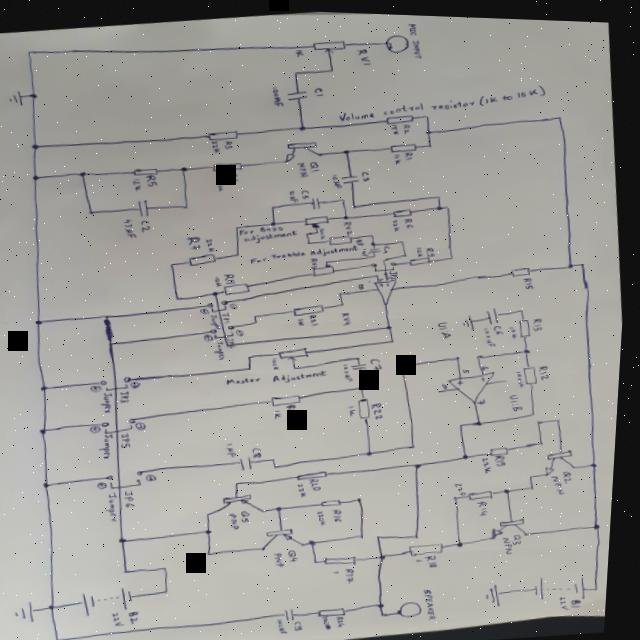capacitor: (286, 85, 311, 98), (138, 196, 154, 215), (488, 301, 503, 320), (244, 452, 259, 468), (290, 602, 304, 618), (342, 170, 362, 180), (312, 192, 324, 206), (354, 358, 373, 366), (371, 243, 385, 249)
ground: (489, 576, 510, 604), (21, 597, 44, 622), (8, 87, 26, 106), (463, 308, 479, 325)
junction: (28, 90, 40, 98), (595, 455, 605, 463), (525, 342, 536, 349), (479, 348, 488, 356), (418, 457, 427, 465), (569, 256, 578, 264), (457, 349, 466, 357), (466, 448, 476, 455), (271, 216, 281, 223), (181, 163, 190, 170), (38, 317, 47, 324), (508, 482, 517, 489), (211, 525, 220, 532), (281, 501, 290, 508), (582, 255, 591, 262), (314, 535, 323, 542), (34, 173, 44, 179), (424, 108, 432, 115), (372, 236, 380, 243), (81, 169, 89, 176), (543, 434, 550, 441), (45, 426, 52, 433), (55, 601, 62, 608), (463, 537, 470, 544), (90, 207, 98, 213), (389, 320, 397, 326), (462, 417, 470, 423), (387, 607, 395, 613), (110, 339, 118, 345), (33, 142, 41, 148), (479, 415, 487, 421), (63, 634, 70, 640), (426, 125, 433, 131), (294, 66, 301, 72), (386, 548, 392, 555), (365, 529, 372, 535), (256, 316, 263, 322), (345, 210, 352, 216), (46, 383, 52, 390), (237, 249, 244, 255), (362, 381, 370, 386), (125, 535, 133, 540), (404, 360, 412, 365), (598, 518, 606, 523), (541, 413, 547, 419), (415, 439, 421, 445), (169, 562, 175, 568), (185, 200, 191, 206), (172, 259, 178, 265), (560, 411, 566, 417), (438, 189, 444, 195), (452, 250, 458, 256), (458, 490, 464, 496), (49, 480, 55, 486), (303, 121, 309, 127), (535, 405, 541, 411), (385, 599, 392, 604), (272, 201, 279, 206), (213, 548, 220, 553), (428, 138, 435, 143), (251, 351, 258, 356), (521, 303, 528, 308), (420, 529, 427, 534), (342, 298, 349, 303), (344, 145, 351, 150), (557, 109, 564, 114), (329, 64, 335, 69), (130, 567, 136, 572), (354, 200, 360, 205), (600, 580, 606, 585), (240, 477, 246, 482), (382, 530, 388, 535), (341, 287, 347, 292), (251, 363, 257, 368), (310, 237, 316, 242), (278, 461, 284, 466), (275, 453, 281, 458), (440, 200, 446, 205), (373, 249, 379, 254), (402, 234, 408, 239), (215, 288, 221, 293), (373, 446, 378, 452), (238, 222, 244, 227), (362, 493, 368, 498), (319, 555, 325, 560), (536, 479, 541, 484), (534, 469, 539, 474), (257, 310, 262, 315), (178, 293, 183, 298), (394, 335, 399, 340), (229, 340, 234, 344), (171, 587, 175, 591), (449, 200, 453, 204), (372, 230, 376, 234), (343, 194, 347, 198), (318, 227, 322, 231), (360, 352, 364, 356), (297, 362, 301, 366), (328, 256, 333, 259), (378, 269, 382, 272), (385, 255, 389, 257), (309, 229, 312, 231), (407, 249, 410, 251)
resistor: (414, 536, 451, 554), (280, 342, 314, 361), (310, 34, 348, 51), (328, 550, 365, 565), (273, 389, 308, 404), (300, 464, 336, 478), (304, 210, 334, 226), (226, 278, 255, 294), (295, 299, 328, 313), (322, 601, 354, 615), (525, 359, 544, 381), (191, 250, 220, 264), (213, 157, 244, 170), (329, 230, 358, 243), (209, 126, 240, 138), (386, 109, 416, 121), (360, 393, 376, 414), (473, 484, 500, 496), (315, 259, 338, 273), (521, 312, 536, 333), (392, 138, 419, 149), (135, 164, 162, 175), (512, 260, 534, 272), (410, 251, 434, 261), (326, 494, 349, 504), (393, 203, 414, 213), (495, 440, 514, 451)
source: (87, 581, 144, 616), (538, 565, 595, 599)
switch: (109, 465, 154, 489), (104, 413, 143, 434), (103, 373, 138, 391), (212, 320, 239, 337), (372, 255, 401, 269), (209, 296, 232, 310)
terminal: (442, 384, 448, 388), (507, 374, 511, 377)
text: (337, 72, 550, 125), (252, 236, 363, 264), (228, 361, 336, 386), (246, 223, 303, 243), (241, 219, 290, 234), (407, 17, 424, 55), (428, 582, 446, 616), (102, 430, 122, 459), (109, 489, 125, 520), (437, 313, 458, 336), (356, 43, 374, 63), (512, 387, 530, 407), (125, 215, 141, 237), (271, 81, 286, 104), (128, 486, 145, 506), (556, 468, 571, 490), (104, 390, 119, 411), (216, 337, 231, 358), (485, 322, 500, 343), (345, 357, 360, 378), (232, 508, 247, 528), (281, 614, 297, 632), (375, 397, 390, 416), (507, 530, 521, 550), (188, 232, 205, 248), (289, 399, 304, 417), (278, 547, 293, 565), (373, 352, 389, 368), (297, 158, 312, 175), (349, 563, 364, 580), (331, 169, 346, 186), (482, 495, 497, 511), (119, 608, 133, 625), (212, 311, 226, 328), (486, 451, 499, 469), (302, 477, 315, 495), (541, 359, 555, 375), (314, 472, 328, 488), (430, 549, 446, 563), (206, 233, 219, 250), (124, 430, 137, 447), (322, 505, 334, 523), (459, 477, 473, 492), (141, 216, 155, 231), (519, 363, 530, 382), (351, 399, 364, 415), (498, 448, 512, 462), (337, 504, 350, 519), (245, 505, 258, 520), (344, 307, 356, 323), (565, 589, 577, 605), (344, 216, 356, 232), (525, 271, 538, 285), (535, 312, 548, 326), (293, 545, 306, 559), (135, 608, 148, 622), (226, 268, 240, 281), (147, 172, 161, 185), (310, 156, 323, 170), (230, 439, 242, 454), (290, 185, 302, 200), (212, 136, 224, 151), (217, 171, 227, 188), (276, 404, 289, 417), (124, 387, 136, 401), (228, 168, 242, 180), (495, 319, 509, 331), (390, 119, 402, 132), (133, 175, 145, 188), (299, 615, 311, 628), (273, 353, 284, 367), (568, 464, 579, 478), (256, 443, 268, 455), (513, 319, 522, 335), (427, 241, 439, 253), (341, 611, 352, 624), (394, 213, 404, 227), (362, 166, 373, 178), (302, 185, 314, 196), (405, 213, 417, 224), (313, 253, 323, 266), (225, 308, 235, 321), (320, 223, 330, 236), (217, 271, 227, 284), (140, 418, 153, 428), (94, 422, 107, 432), (94, 382, 107, 392), (150, 470, 164, 479), (100, 478, 114, 487), (132, 378, 146, 387), (230, 335, 241, 346), (392, 265, 402, 277), (315, 83, 327, 93), (519, 529, 529, 541), (293, 45, 306, 54), (576, 593, 589, 602), (403, 119, 414, 129), (394, 148, 404, 159), (312, 311, 322, 322), (418, 241, 427, 253), (362, 243, 372, 253), (405, 147, 416, 156), (225, 137, 236, 146), (328, 611, 337, 622), (384, 241, 394, 250), (239, 325, 249, 334), (208, 330, 218, 339), (464, 362, 476, 369), (232, 299, 243, 306), (301, 313, 309, 322), (203, 304, 212, 312), (481, 393, 491, 400), (459, 373, 469, 380), (381, 276, 389, 284), (360, 279, 369, 286), (358, 234, 367, 241), (485, 359, 493, 365), (484, 371, 492, 376), (447, 378, 453, 383), (381, 273, 386, 277), (389, 278, 394, 282), (390, 271, 394, 275)
transistor: (209, 484, 274, 515), (266, 521, 313, 548), (495, 509, 540, 536), (283, 134, 326, 160), (547, 443, 583, 471)
